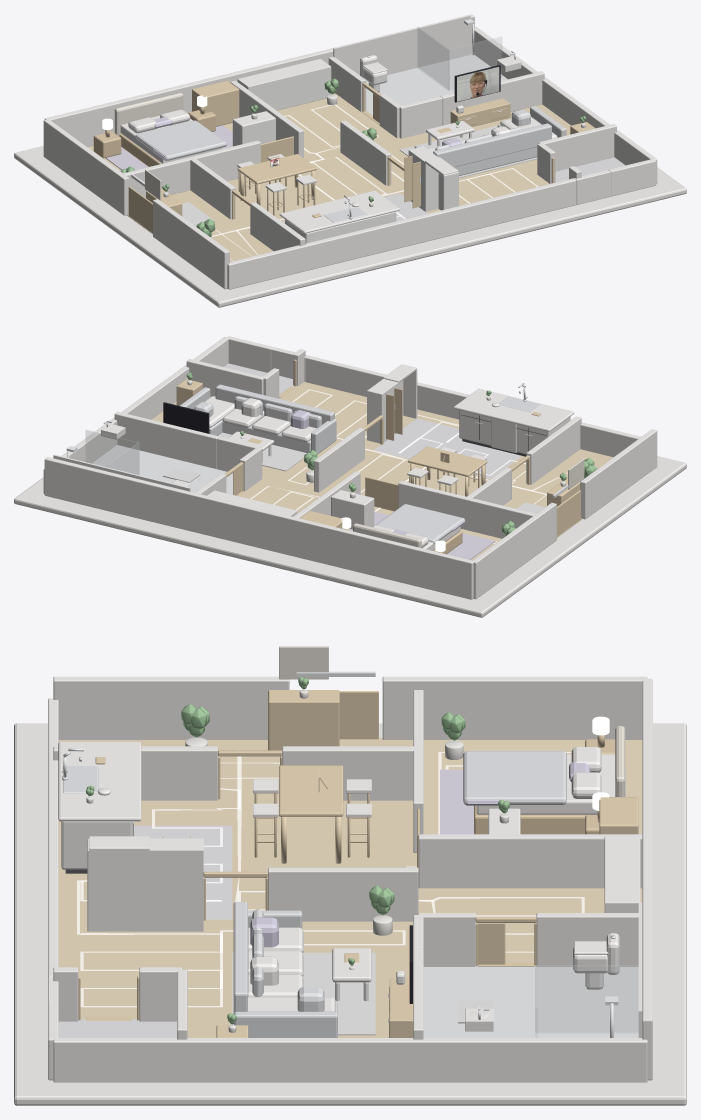
The model's file is smart_home_apartment_furnished.glb.
3 views of the same model, one above another, from view 1: azimuth 30°, elevation 25°; view 2: azimuth 150°, elevation 25°; view 3: azimuth 270°, elevation 25° (orthographic). The views are drawn at different scales.
Visible parts, largest first — view 1: base_slab, wall_outer_front_A, floor_wood_main, bathroom_tile_details, wall_outer_back, wall_outer_left_B, living_room_sofa, wall_outer_right, floor_wood_hall, wall_outer_left_A, storage_alcove_cabinets, floor_bathroom_tile (+41 smaller); view 2: wall_outer_back, base_slab, floor_wood_main, wall_outer_front_A, wall_outer_left_B, wall_inner_bathroom_front, wall_inner_bedroom_front_A, wall_outer_left_A, wall_outer_right, living_room_sofa, floor_kitchen_tile_zone, floor_wood_front_right (+36 smaller); view 3: base_slab, wall_outer_right, floor_wood_main, wall_outer_left_B, floor_bathroom_tile, wall_outer_left_A, floor_wood_front_right, wall_inner_bedroom_side, wall_inner_kitchen_living, bathroom_glass_shower, floor_wood_hall, kitchen_refrigerator_wall_bay (+45 smaller).
Part boxes in pixels (x1,y1,x2,y2): base_slab: (14, 146, 686, 307); wall_outer_front_A: (227, 178, 576, 289); floor_wood_main: (127, 152, 399, 288); bathroom_tile_details: (333, 15, 470, 75); wall_outer_back: (44, 14, 474, 146); wall_outer_left_B: (43, 119, 129, 215); living_room_sofa: (414, 106, 566, 175); wall_outer_right: (474, 26, 657, 183); floor_wood_hall: (277, 93, 396, 160); wall_outer_left_A: (153, 199, 229, 289); storage_alcove_cabinets: (237, 59, 331, 110); floor_bathroom_tile: (366, 53, 507, 115); wall_outer_back: (44, 457, 473, 599); base_slab: (14, 456, 686, 617); floor_wood_main: (319, 411, 612, 537); wall_outer_front_A: (305, 355, 641, 457); wall_outer_left_B: (473, 502, 556, 599); wall_inner_bathroom_front: (114, 411, 219, 468); wall_inner_bedroom_front_A: (398, 481, 535, 538); wall_outer_left_A: (580, 429, 657, 519); wall_outer_right: (43, 336, 228, 493); living_room_sofa: (179, 384, 336, 454); floor_kitchen_tile_zone: (373, 418, 521, 478); floor_wood_front_right: (176, 382, 425, 450); base_slab: (14, 723, 686, 1105); wall_outer_right: (53, 1038, 647, 1082); floor_wood_main: (58, 738, 416, 919); wall_outer_left_B: (382, 676, 647, 739); floor_bathroom_tile: (423, 966, 638, 1037); wall_outer_left_A: (53, 676, 289, 739); floor_wood_front_right: (58, 919, 232, 1037); wall_inner_bedroom_side: (418, 834, 642, 888); wall_inner_kitchen_living: (268, 867, 418, 921); bathroom_glass_shower: (535, 965, 638, 1037); floor_wood_hall: (418, 888, 642, 962); kitchen_refrigerator_wall_bay: (87, 836, 150, 931).
Size of the model in its own units: 18.6 by 2.39 by 14.1.
27 materials, 2 textured.
